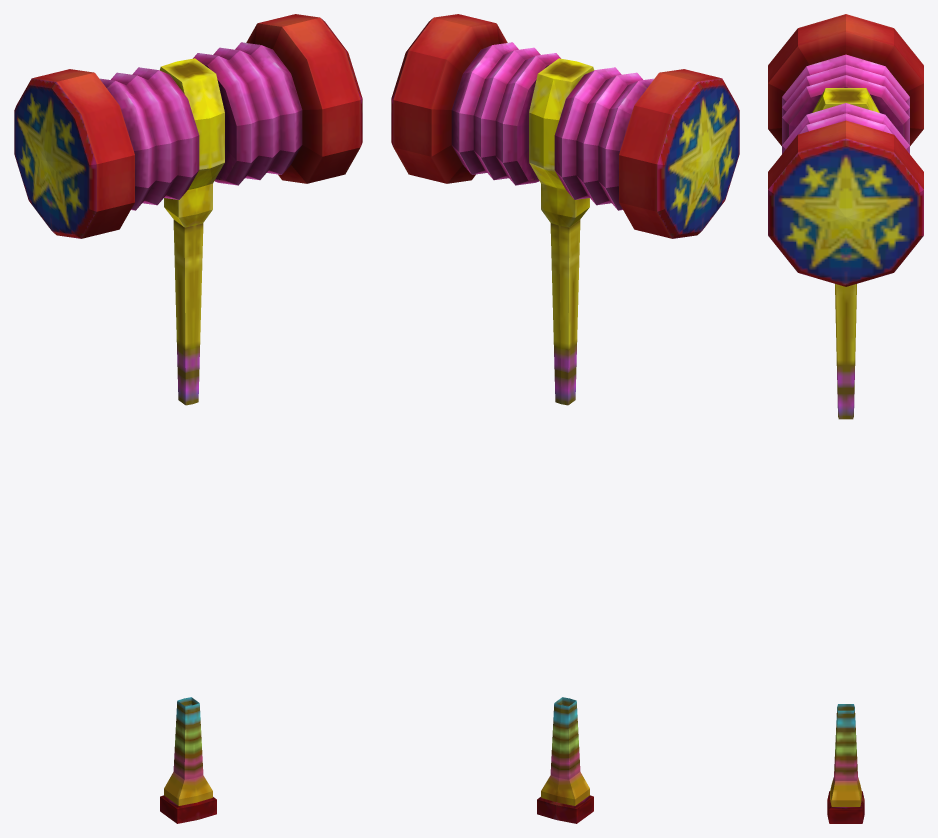
File: Bison_toyHammer.obj
The picture shows the model from 3 angles, left to right: view 1: azimuth 30°, elevation 25°; view 2: azimuth 150°, elevation 25°; view 3: azimuth 270°, elevation 25°; orthographic projection. The views are drawn at different scales.
Visible parts, largest first — view 1: Bison_toyHammer_tri; view 2: Bison_toyHammer_tri; view 3: Bison_toyHammer_tri.
Boxes of the visible parts, x1,y1,x2,y2 form: Bison_toyHammer_tri: [14, 14, 362, 823]; Bison_toyHammer_tri: [391, 14, 739, 823]; Bison_toyHammer_tri: [768, 14, 923, 823].
Bounding box in the file's own units: 1.44 × 3.7 × 0.708.
Materials: 1 (1 with a texture image).
